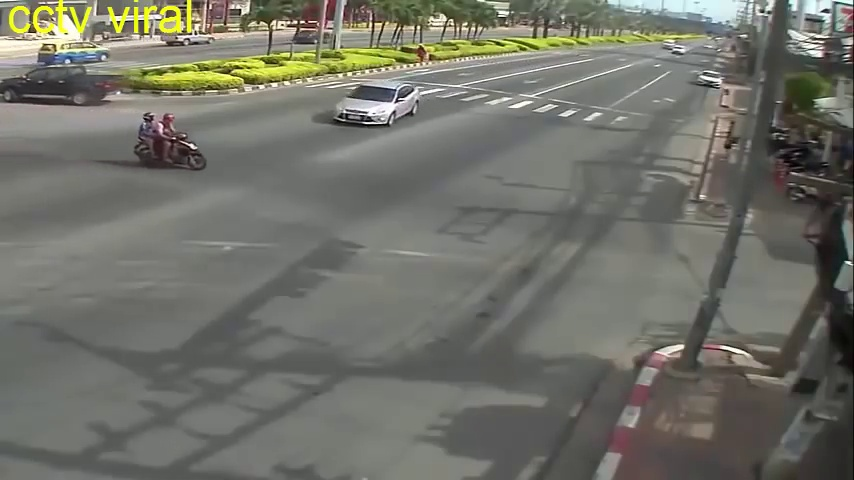car: (1, 58, 129, 109), (334, 77, 418, 134), (38, 37, 112, 67), (694, 67, 723, 89)
motorbike: (134, 110, 207, 171)
